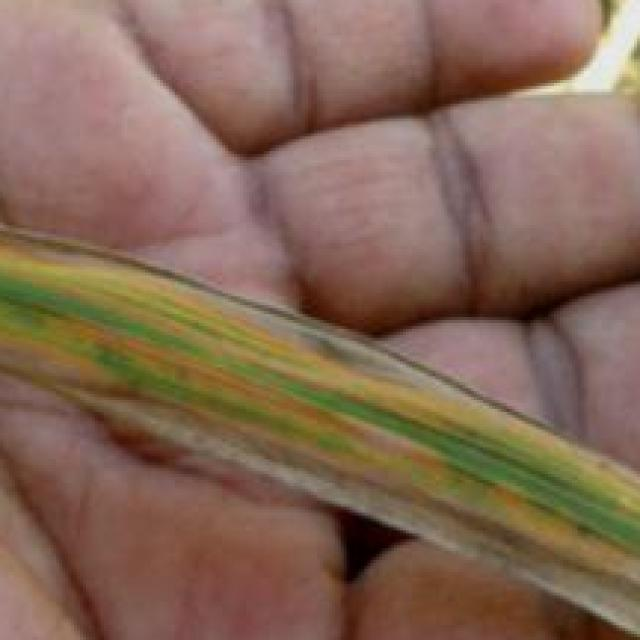Bacterial_Leaf_Blight: (2, 222, 604, 574)
